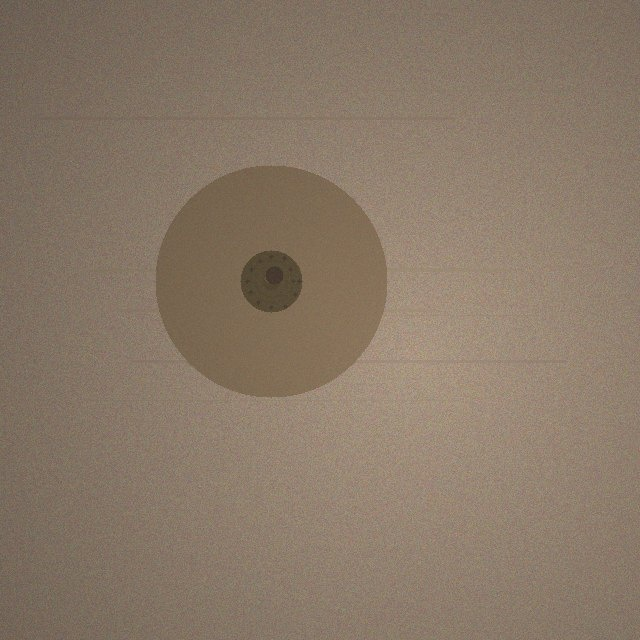cold_weld: (155, 165, 387, 397)
